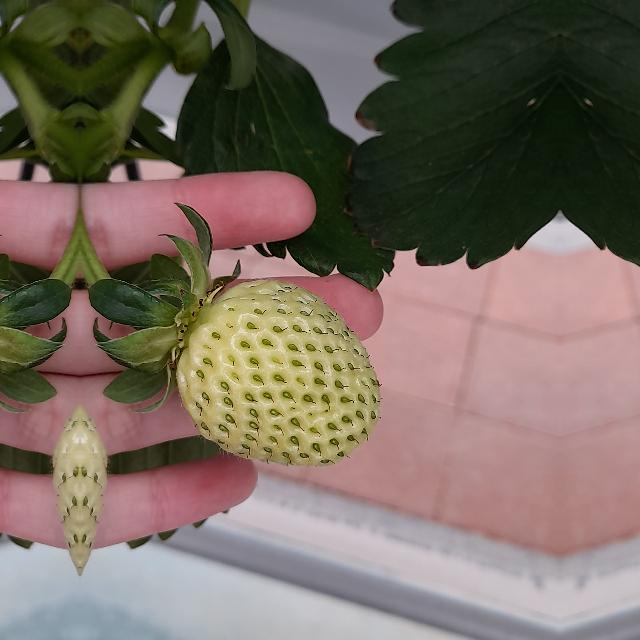Health_25: (176, 279, 380, 466)
